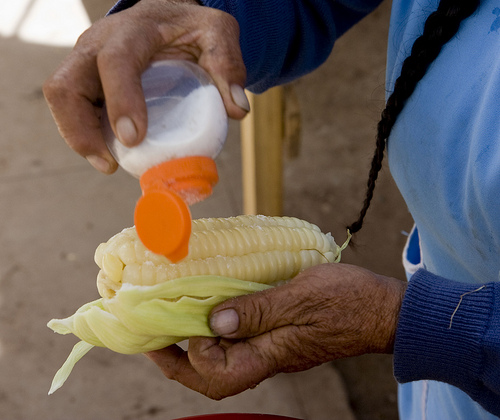corn: (91, 210, 355, 322)
